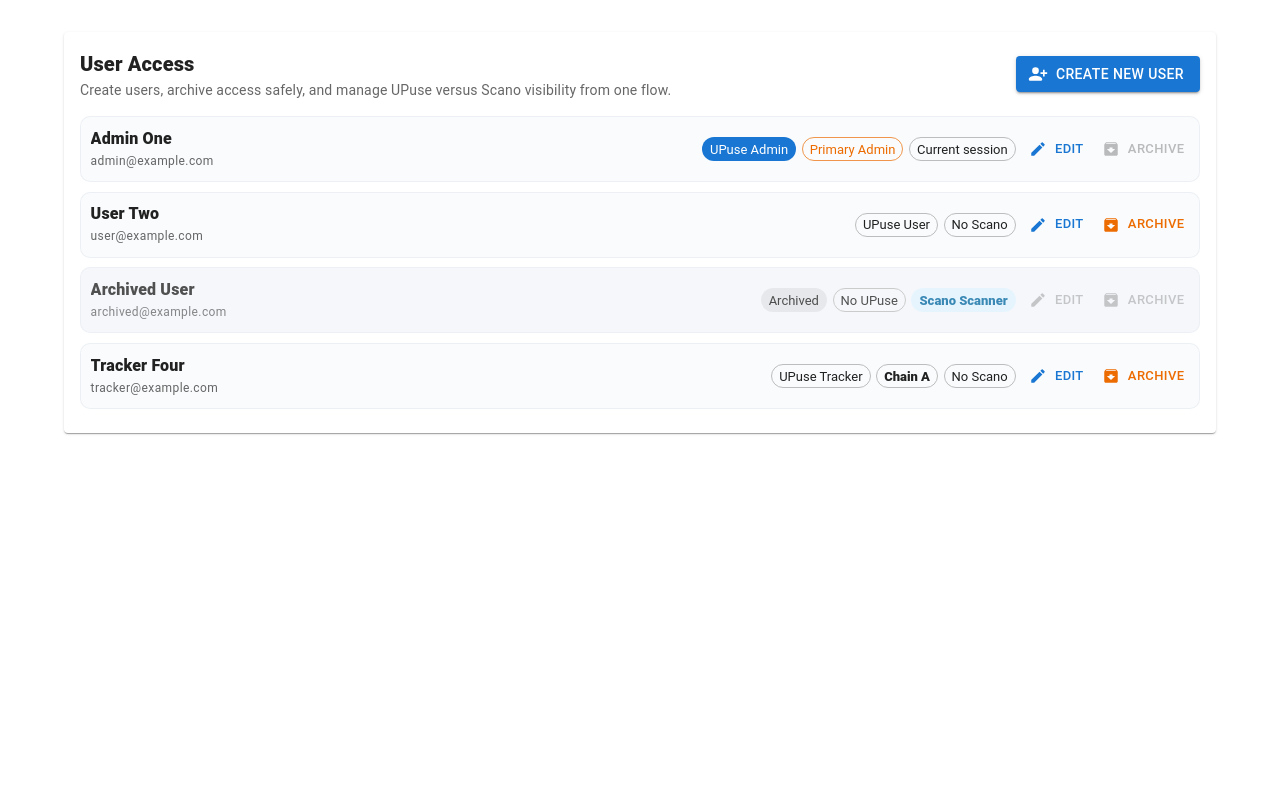
Test: UsersPage › opens the edit wizard with the current access values and keeps self-archive disabled
The width and height of the screenshot is (1280, 800).
Expected: the text "Current session" is shown, x1=910 y1=142 x2=1015 y2=157
Expected: the text "Archived" is shown, x1=769 y1=293 x2=819 y2=308
Step 1. Click the button "Edit" in the row of "UPuse User" → {"x": 1057, "y": 225}, box x1=1025 y1=209 x2=1089 y2=240
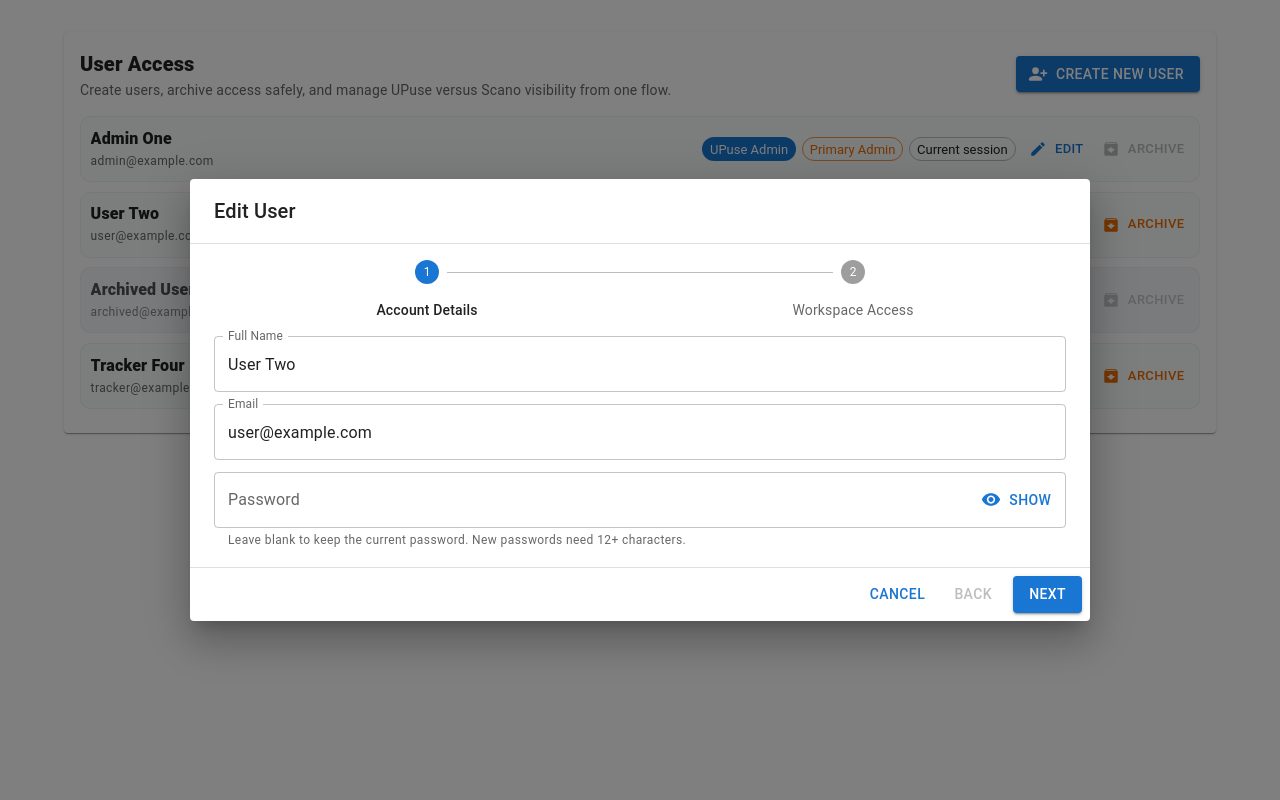
Now the field showing "User Two" is shown, box x1=214 y1=336 x2=1066 y2=392
Now the field showing "user@example.com" is shown, box x1=214 y1=404 x2=1066 y2=460
Step 2. Click the button "Next" → {"x": 1048, "y": 594}, box x1=1013 y1=576 x2=1082 y2=613
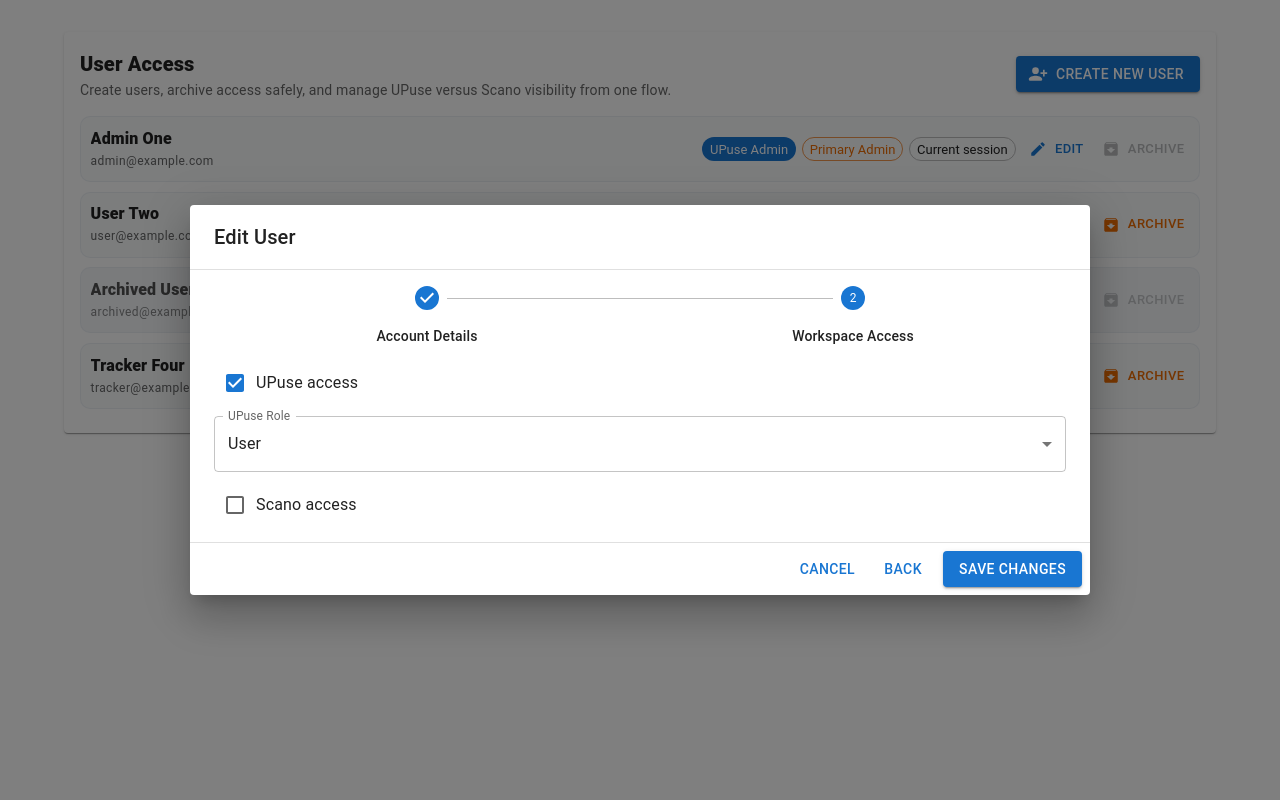
Now the checkbox labelled "UPuse access" is checked, box x1=223 y1=371 x2=358 y2=395
Now the checkbox labelled "Scano access" is not checked, box x1=223 y1=493 x2=357 y2=517
Now the element showing "user" is shown, box x1=214 y1=416 x2=1066 y2=472
